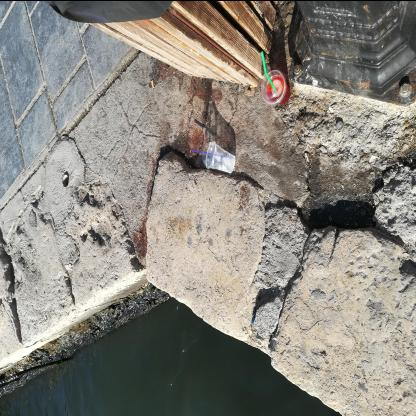plastik: (260, 49, 292, 104), (190, 140, 236, 174)
